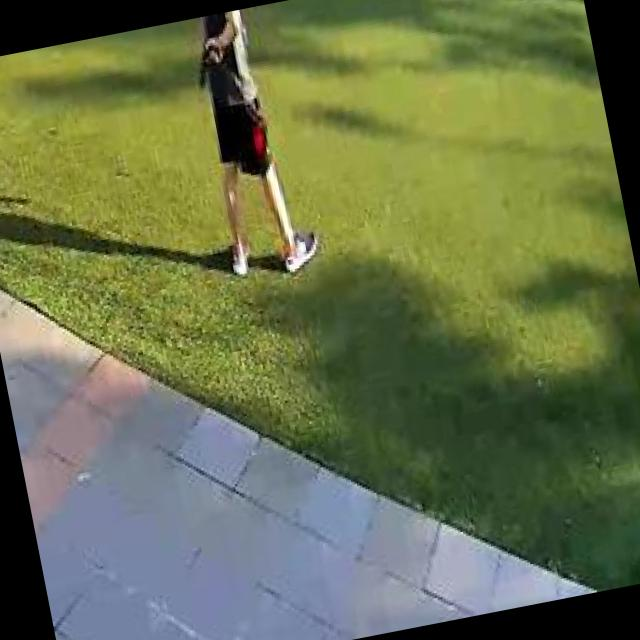Guns: (183, 28, 240, 94)
